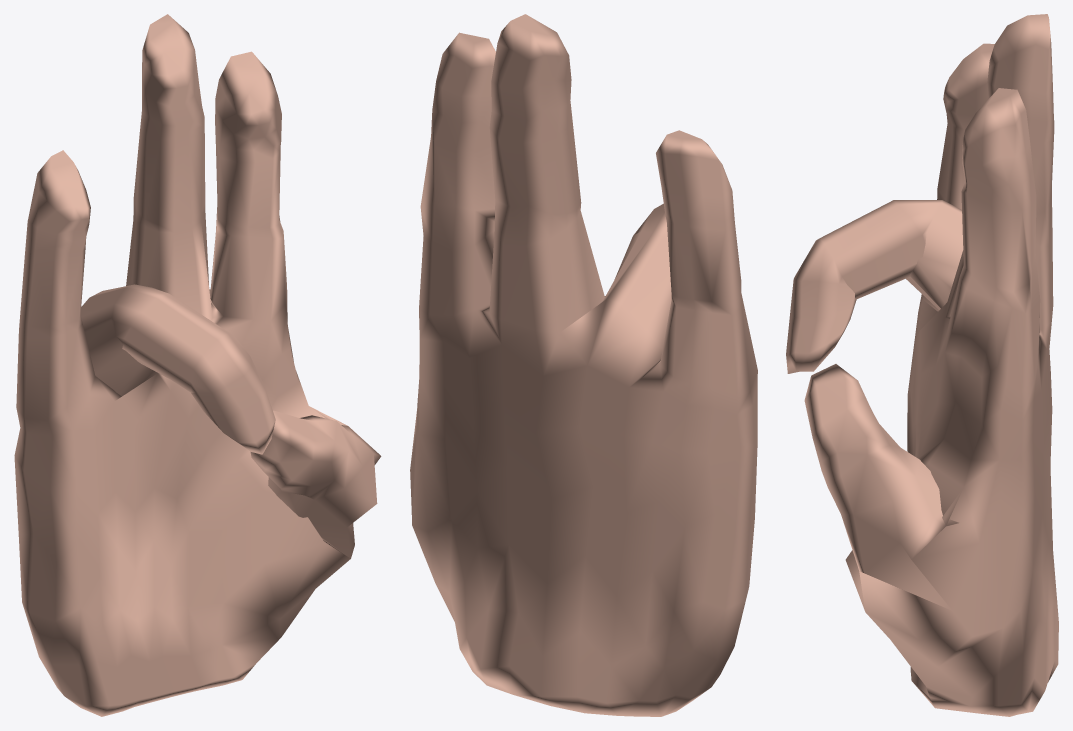
The model's file is MAO_DROGA.obj.
3 renders of one model, left to right at view 1: azimuth 30°, elevation 25°; view 2: azimuth 150°, elevation 25°; view 3: azimuth 270°, elevation 25°, orthographic. The views are drawn at different scales.
Parts seen in each view (by area): view 1: mao_dir:mao_dir; view 2: mao_dir:mao_dir; view 3: mao_dir:mao_dir.
Part boxes in pixels (x1=…): mao_dir:mao_dir: x1=14, y1=14, x2=381, y2=716; mao_dir:mao_dir: x1=410, y1=14, x2=757, y2=716; mao_dir:mao_dir: x1=786, y1=14, x2=1058, y2=716.
Size of the model in its own units: 134 by 243 by 88.17.
